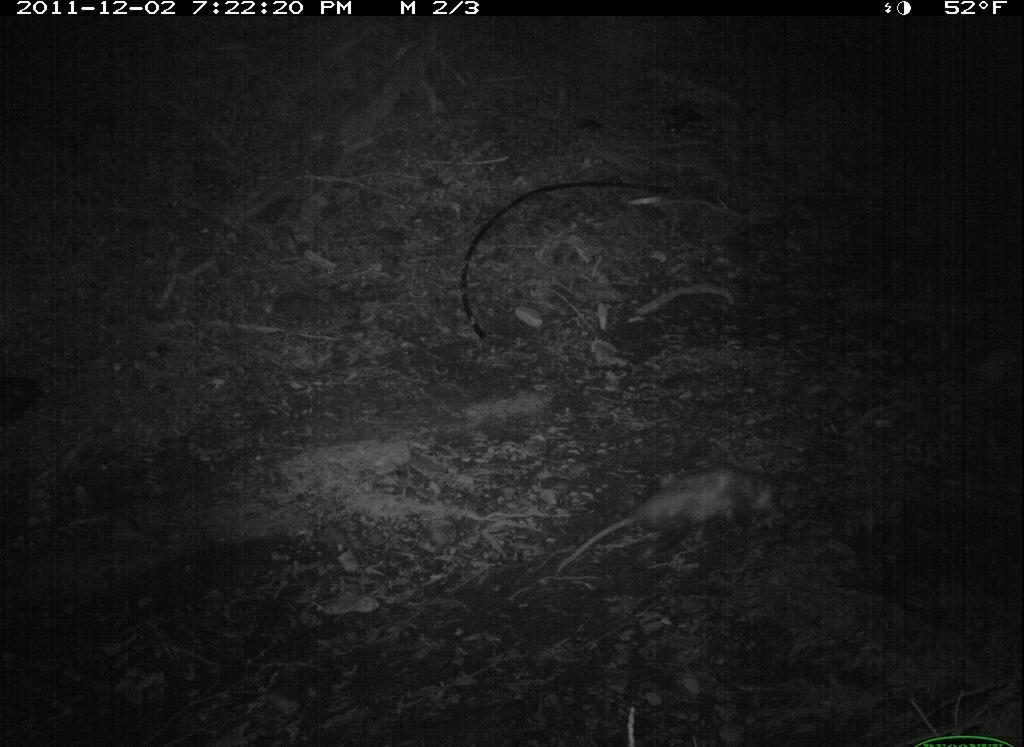opossum: (591, 463, 783, 551)
